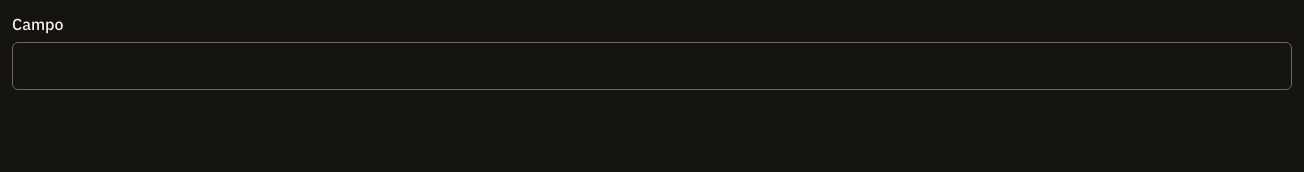
Test: NumberField grouping › still groups an amount
Type "45000000" into the field labelled "Campo" at (652, 66), box left=12, top=42, right=1292, bottom=90
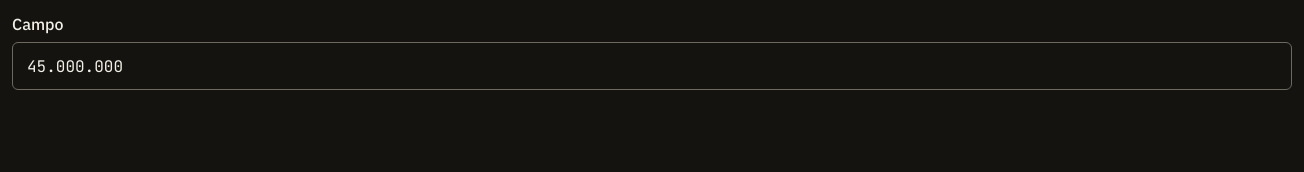
Expected: the field labelled "Campo" holds "45.000.000", left=12, top=42, right=1292, bottom=90
